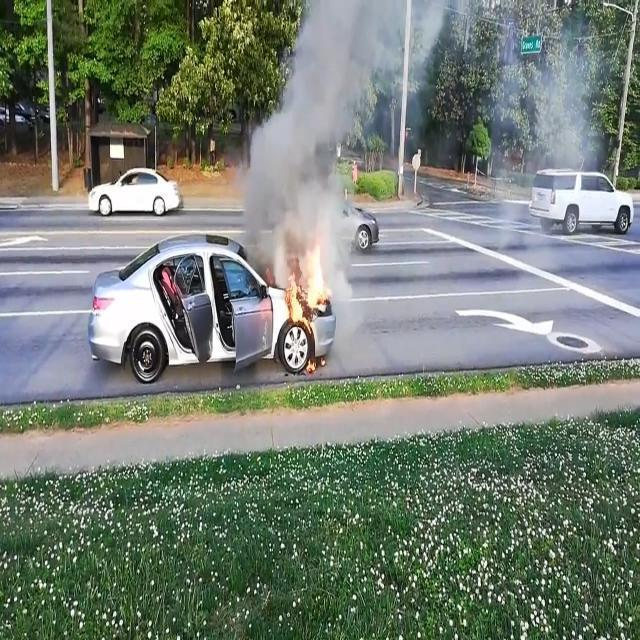fire: (264, 228, 336, 374)
